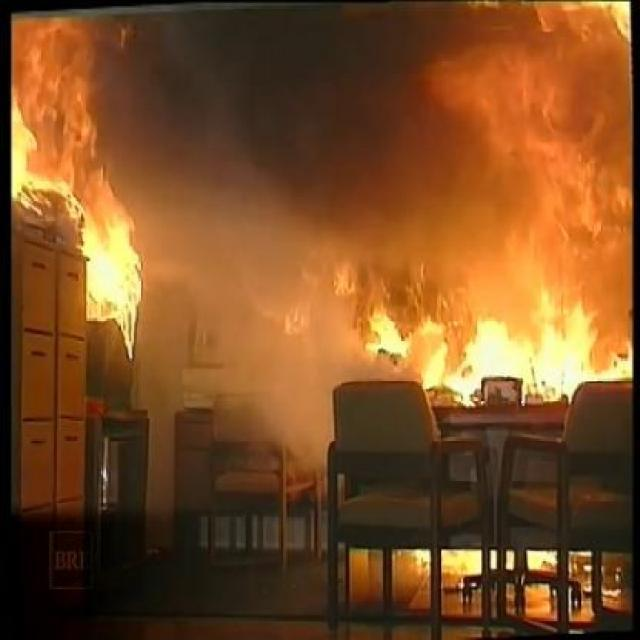fire: (20, 37, 145, 330), (344, 246, 588, 372)
smoke: (172, 154, 316, 443)
